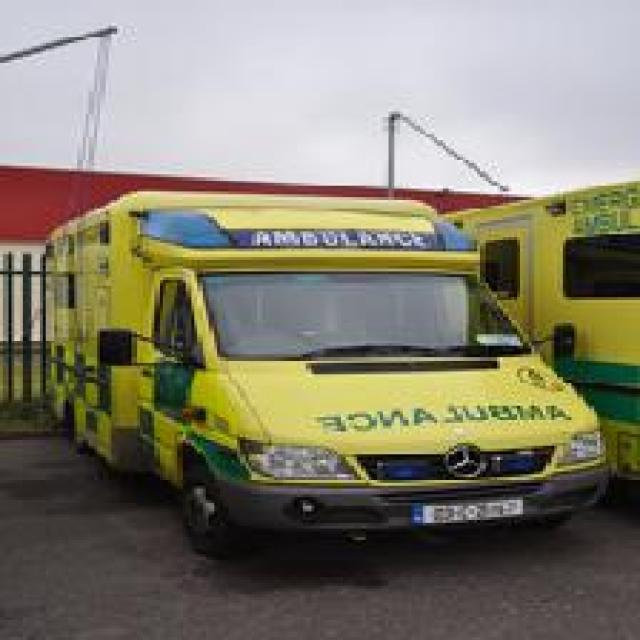Ambulance: (40, 186, 611, 557), (440, 163, 637, 514)
